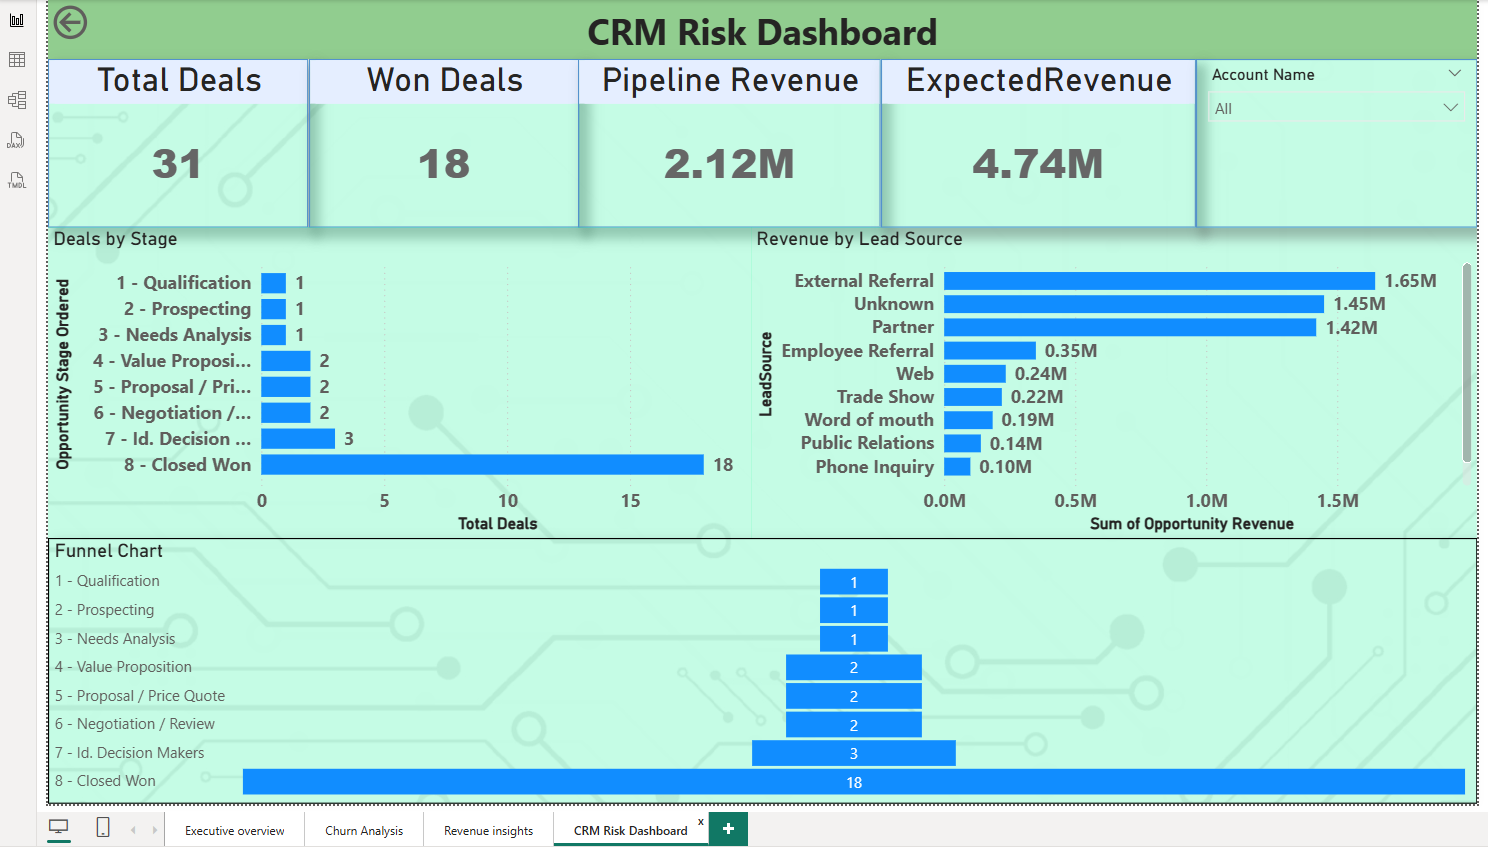

What the dashboard file says about the page in this screenshot:
{"tool":"powerbi","page":{"name":"CRM Risk Dashboard","canvas":[1280,720],"ordinal":3},"visuals":[{"type":"textbox","box":[0,0,1280,52.6],"z":0},{"type":"card","title":"Total Deals","fields":{"Values":["Opportunity.Total Deals"]},"box":[0,52.6,233.3,150.7],"z":1000},{"type":"card","title":"Won Deals","fields":{"Values":["Opportunity.Won Deals"]},"box":[233.3,52.6,241.5,150.7],"z":2000},{"type":"card","title":"Pipeline Revenue","fields":{"Values":["Opportunity.Pipeline Revenue"]},"box":[474.8,52.6,271.5,150.7],"z":3000},{"type":"clusteredBarChart","title":"Deals by Stage","fields":{"Y":["Opportunity.Total Deals"],"Category":["Opportunity.Stage Ordered"]},"box":[0,203.4,629.7,278.7],"z":4000},{"type":"clusteredBarChart","title":"Revenue by Lead Source","fields":{"Category":["Opportunity.LeadSource"],"Y":["Sum(Opportunity.Opportunity Revenue)"]},"box":[629.7,203.4,650.3,278.7],"z":5000},{"type":"funnel","title":"Funnel Chart","fields":{"Y":["Opportunity.Total Deals"],"Category":["Opportunity.Stage Ordered"]},"box":[0,482.1,1280,238.5],"z":6000},{"type":"actionButton","box":[0,0,100,40],"z":7000},{"type":"card","title":"ExpectedRevenue","fields":{"Values":["Opportunity.Expected Revenue"]},"box":[746.3,52.6,281.8,150.7],"z":8000},{"type":"slicer","fields":{"Values":["Account.Name"]},"box":[1028.1,52.6,251.9,150.7],"z":9000}]}

Visuals, with their boxes on the page's 1280x720 design canvas (x1, y1, x2, y2). These are canvas units, not pixel positions in the 1488x847 screenshot, which may show the page scaled, cropped or inside an application window:
textbox: BBox(0, 0, 1280, 53)
"Total Deals" card: BBox(0, 53, 233, 203)
"Won Deals" card: BBox(233, 53, 475, 203)
"Pipeline Revenue" card: BBox(475, 53, 746, 203)
"Deals by Stage" clusteredBarChart: BBox(0, 203, 630, 482)
"Revenue by Lead Source" clusteredBarChart: BBox(630, 203, 1280, 482)
"Funnel Chart" funnel: BBox(0, 482, 1280, 721)
actionButton: BBox(0, 0, 100, 40)
"ExpectedRevenue" card: BBox(746, 53, 1028, 203)
slicer - Account.Name: BBox(1028, 53, 1280, 203)
